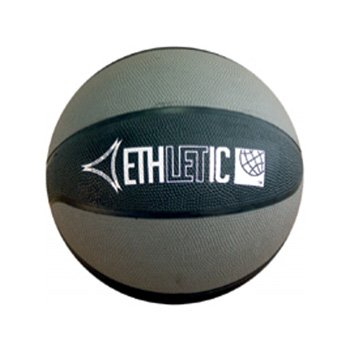basketball: (46, 46, 304, 306)
